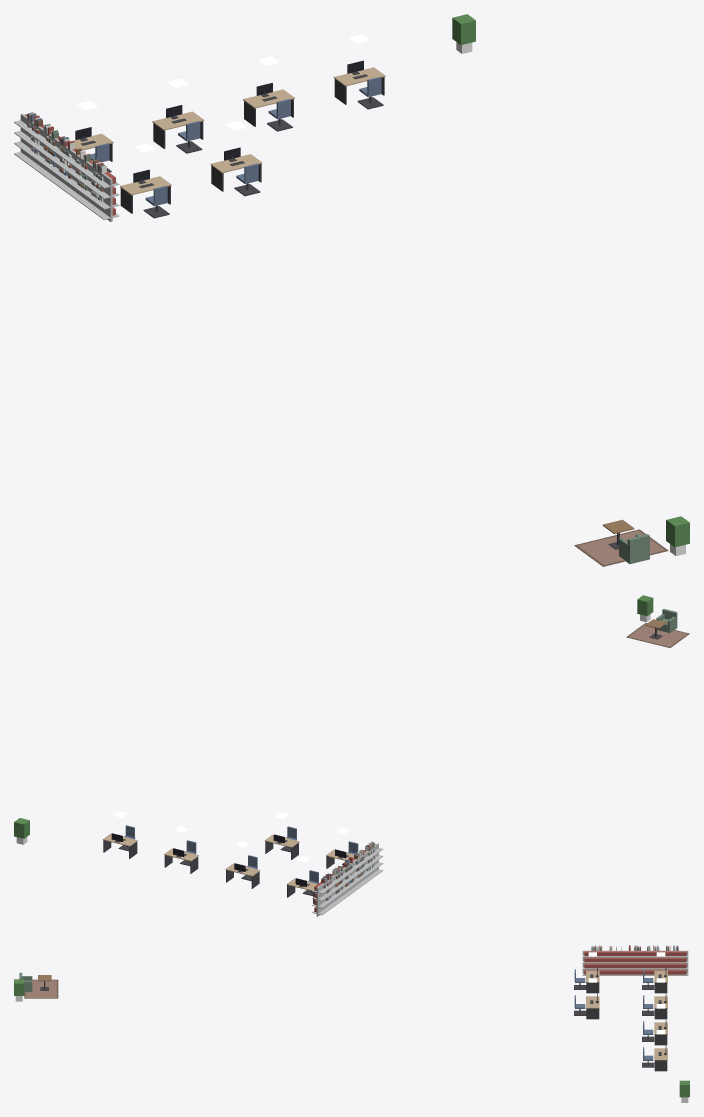
Rendered from fine-s2.glb.
3 renders of one model, top to bottom at view 1: azimuth 30°, elevation 25°; view 2: azimuth 150°, elevation 25°; view 3: azimuth 270°, elevation 25°, orthographic. The views are drawn at different scales.
Parts seen in each view (by area): view 1: soft-s2, shelving.010, shelving.006, office-desk-real.011, office-desk-real.007, office-desk-real.009, office-desk-real.010, office-desk-real.008, shelving.009, shelving.007, shelving.008; view 2: soft-s2, shelving.006; view 3: soft-s2, shelving.006, shelving.009, shelving.008, shelving.010, shelving.007, office-desk-real.009, office-desk-real.011, office-desk-real.006, office-desk-real.010, office-desk-real.007, office-desk-real.008.
Boxes of the visible parts, box(x1,y1,x2,y2) form: soft-s2: box(27, 112, 668, 566); shelving.010: box(78, 161, 119, 221); shelving.006: box(14, 113, 46, 172); office-desk-real.011: box(210, 147, 262, 191); office-desk-real.007: box(152, 105, 204, 148); office-desk-real.009: box(333, 60, 385, 104); office-desk-real.010: box(120, 169, 171, 213); office-desk-real.008: box(243, 83, 294, 126); shelving.009: box(62, 149, 94, 207); shelving.007: box(30, 126, 62, 184); shelving.008: box(46, 138, 79, 195); soft-s2: box(321, 623, 689, 900); shelving.006: box(312, 875, 339, 916); soft-s2: box(24, 945, 678, 998); shelving.006: box(657, 950, 688, 975); shelving.009: box(601, 950, 631, 975); shelving.008: box(620, 950, 650, 975); shelving.010: box(582, 950, 612, 975); shelving.007: box(639, 950, 668, 975); office-desk-real.009: box(654, 1046, 667, 1071); office-desk-real.011: box(586, 993, 599, 1019); office-desk-real.006: box(654, 968, 667, 993); office-desk-real.010: box(586, 967, 599, 993); office-desk-real.007: box(654, 994, 667, 1019); office-desk-real.008: box(654, 1020, 667, 1045).
Bounding box in the file's own units: 18.06 × 2.19 × 39.66.
